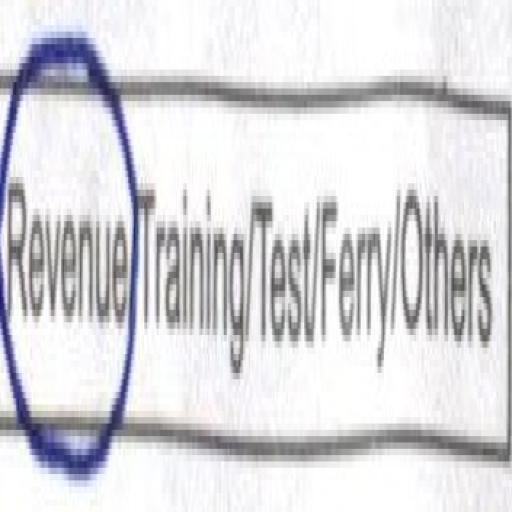check: (0, 0, 135, 480)
